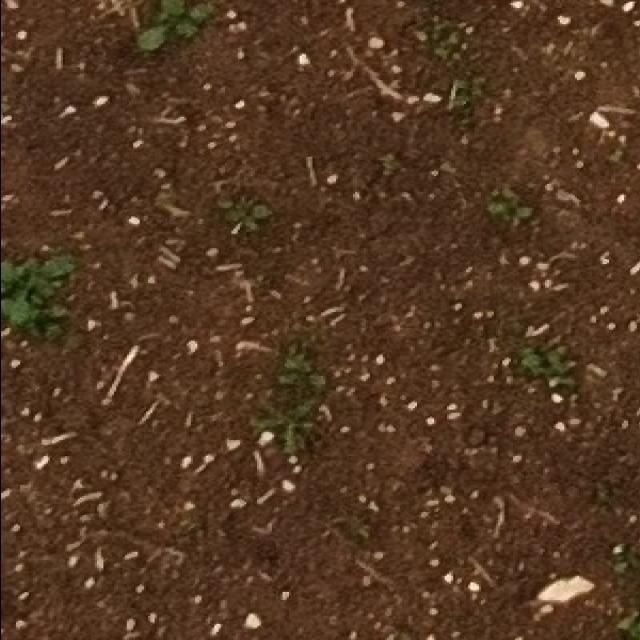cirse: (230, 412, 312, 474), (232, 382, 310, 444), (251, 398, 331, 457)
